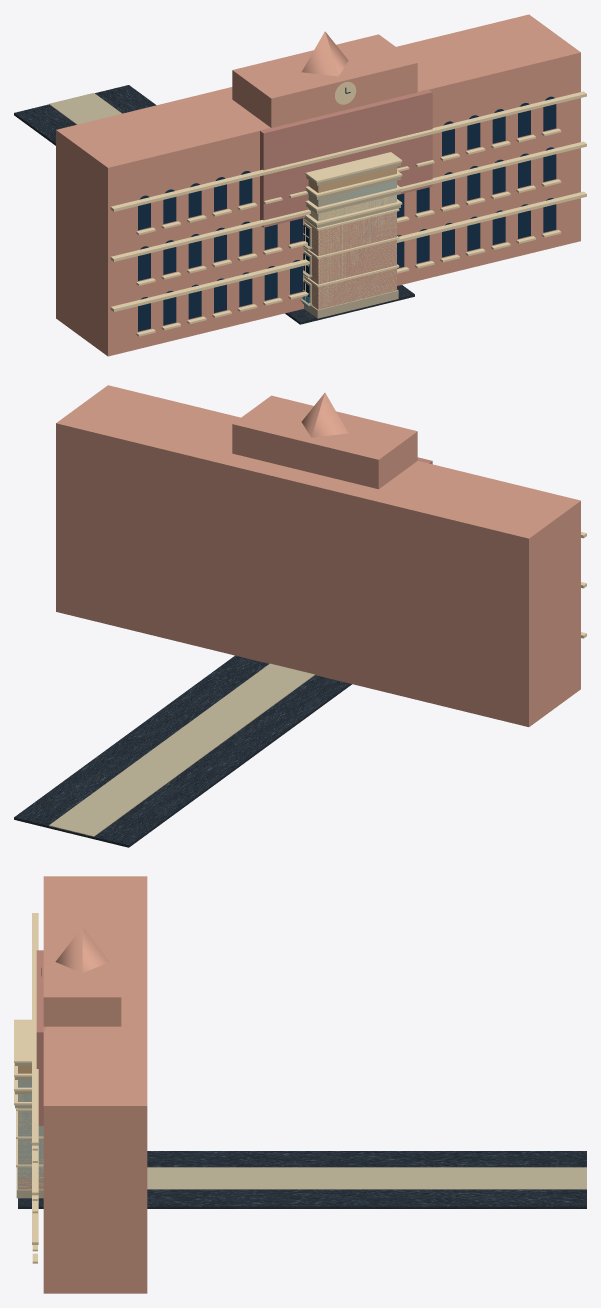
Rendered from city.glb.
3 views of the same model, one above another, from view 1: azimuth 30°, elevation 25°; view 2: azimuth 150°, elevation 25°; view 3: azimuth 270°, elevation 25° (orthographic).
Parts seen in each view (by area): view 1: casa_rosada, facade_0, facade_1, facade_2, facade_3, road_tile, sidewalk_tile, intersection_tile; view 2: casa_rosada, road_tile, sidewalk_tile; view 3: casa_rosada, road_tile, sidewalk_tile, facade_2, facade_3, facade_0, facade_1.
Boxes of the visible parts, x1,y1,x2,y2 form: casa_rosada: [56, 14, 586, 356]; facade_0: [300, 199, 402, 318]; facade_1: [305, 185, 402, 308]; facade_2: [305, 171, 402, 307]; facade_3: [305, 152, 402, 308]; road_tile: [14, 85, 156, 145]; sidewalk_tile: [49, 93, 121, 124]; intersection_tile: [285, 285, 414, 324]; casa_rosada: [56, 385, 586, 726]; road_tile: [14, 655, 351, 847]; sidewalk_tile: [49, 663, 314, 836]; casa_rosada: [32, 876, 147, 1293]; road_tile: [147, 1151, 586, 1208]; sidewalk_tile: [147, 1167, 586, 1189]; facade_2: [14, 1063, 43, 1189]; facade_3: [14, 1019, 42, 1189]; facade_0: [14, 1091, 43, 1198]; facade_1: [14, 1077, 43, 1189].
Size of the model in its own units: 42 by 21.7 by 44.3.
Materials: 14 (1 with a texture image).
